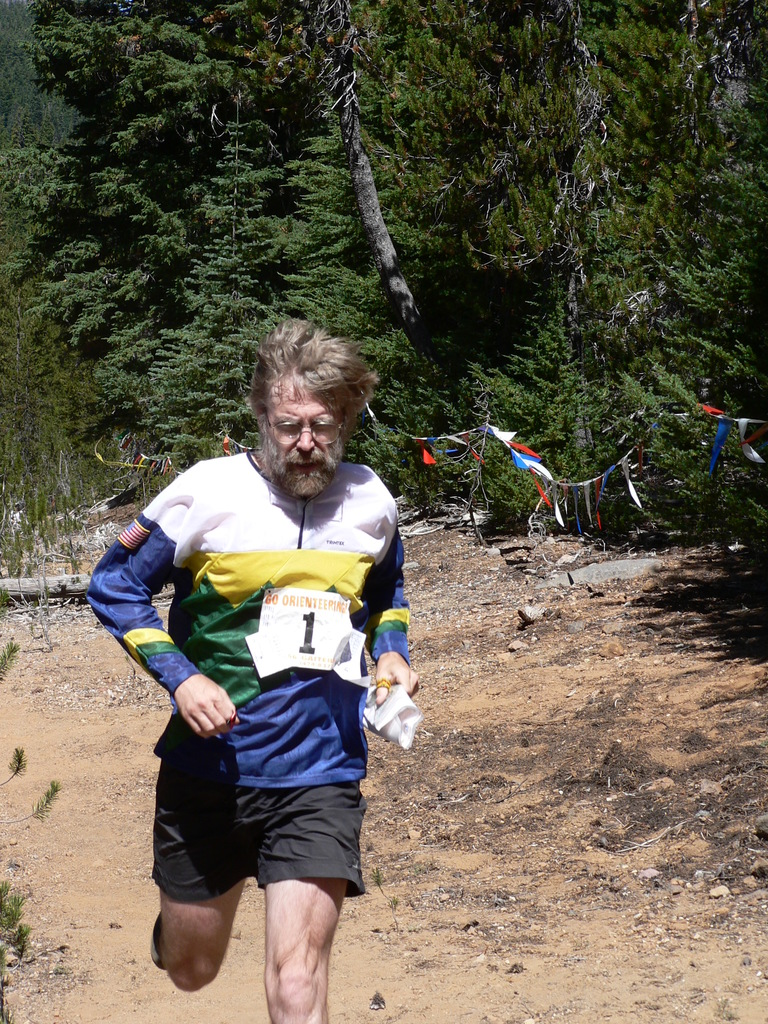Tree: (0, 0, 767, 540)
